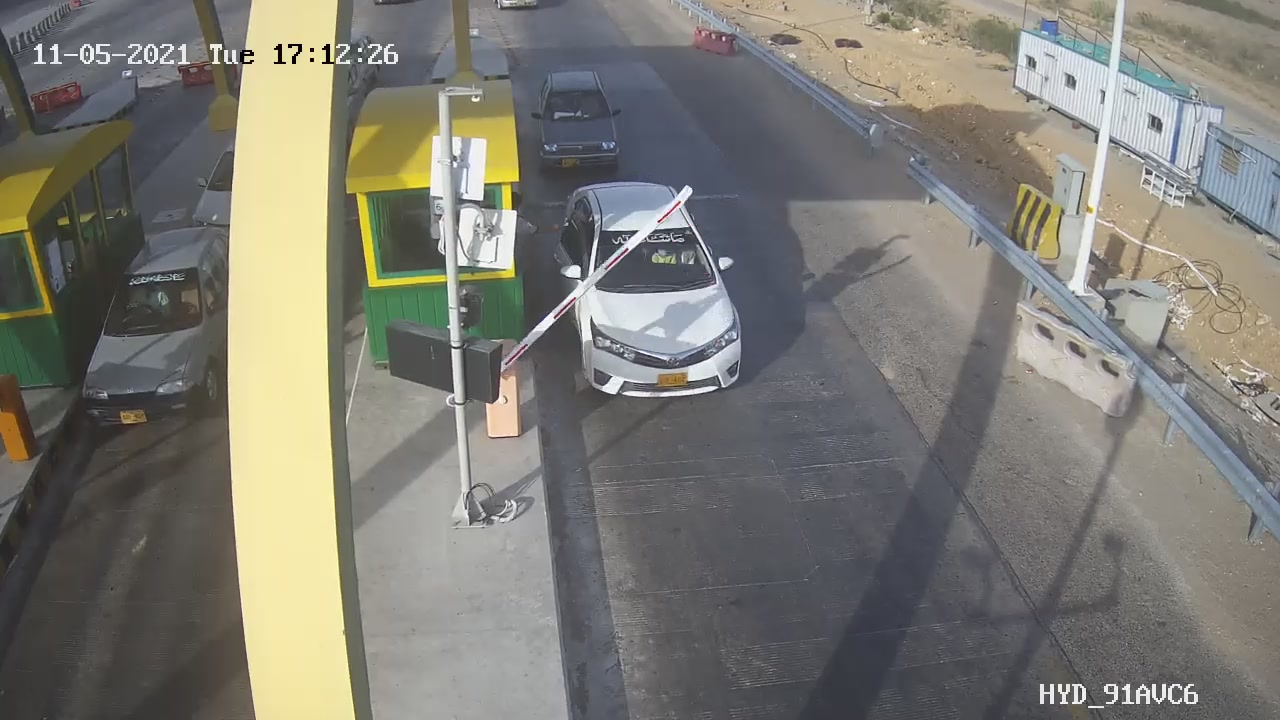F1: (538, 168, 774, 420), (513, 55, 640, 188)
